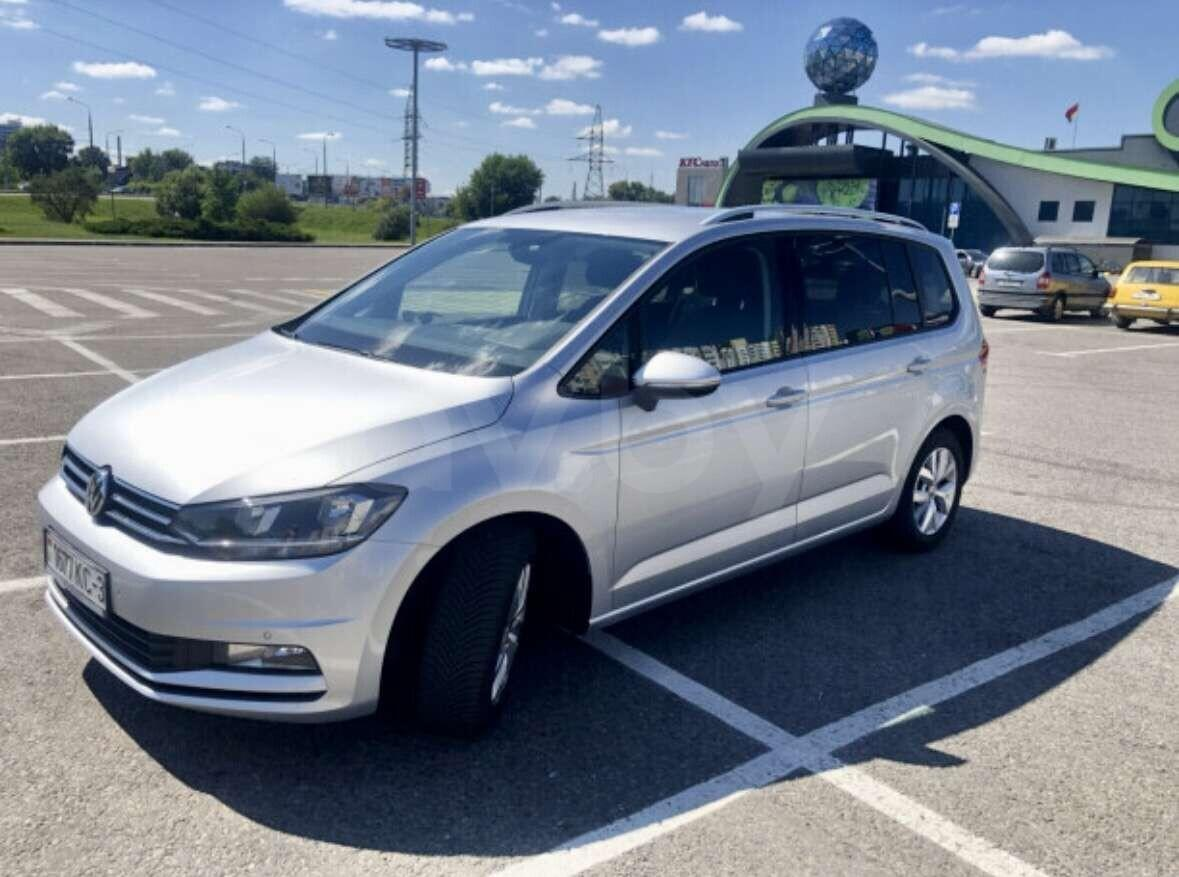Touran_2015: (34, 199, 988, 736)
